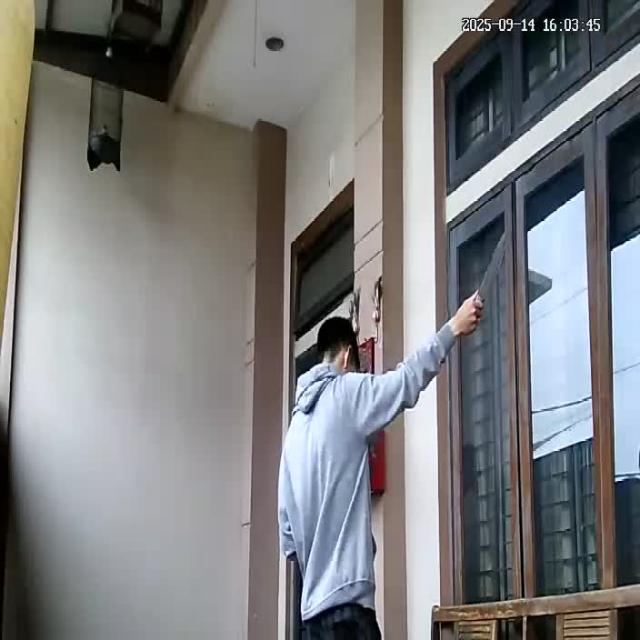senjata_tajam: (476, 231, 508, 301)
